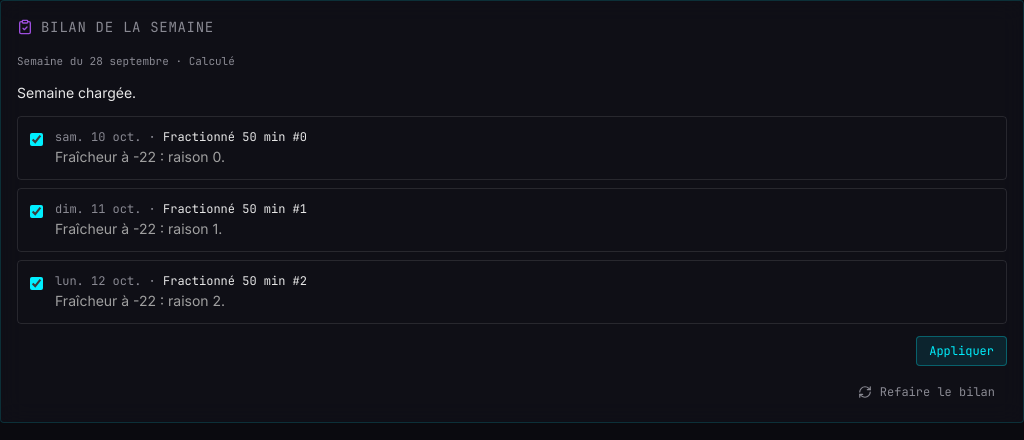
Test: rewrites the review on demand
Click the button "Refaire le bilan": (926, 392) x1=846 y1=378 x2=1007 y2=406
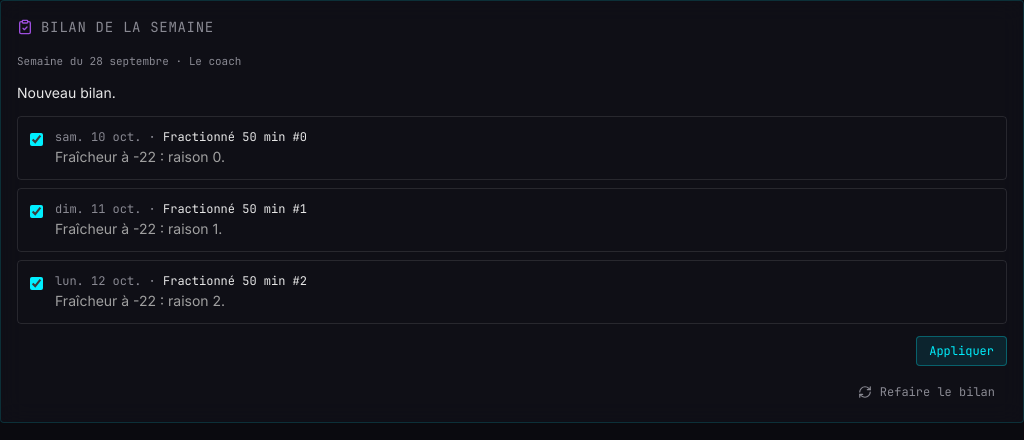
Expected: the text "Nouveau bilan." is shown, x1=17 y1=84 x2=116 y2=100
Expected: the text "Le coach" is shown, x1=189 y1=54 x2=241 y2=68
